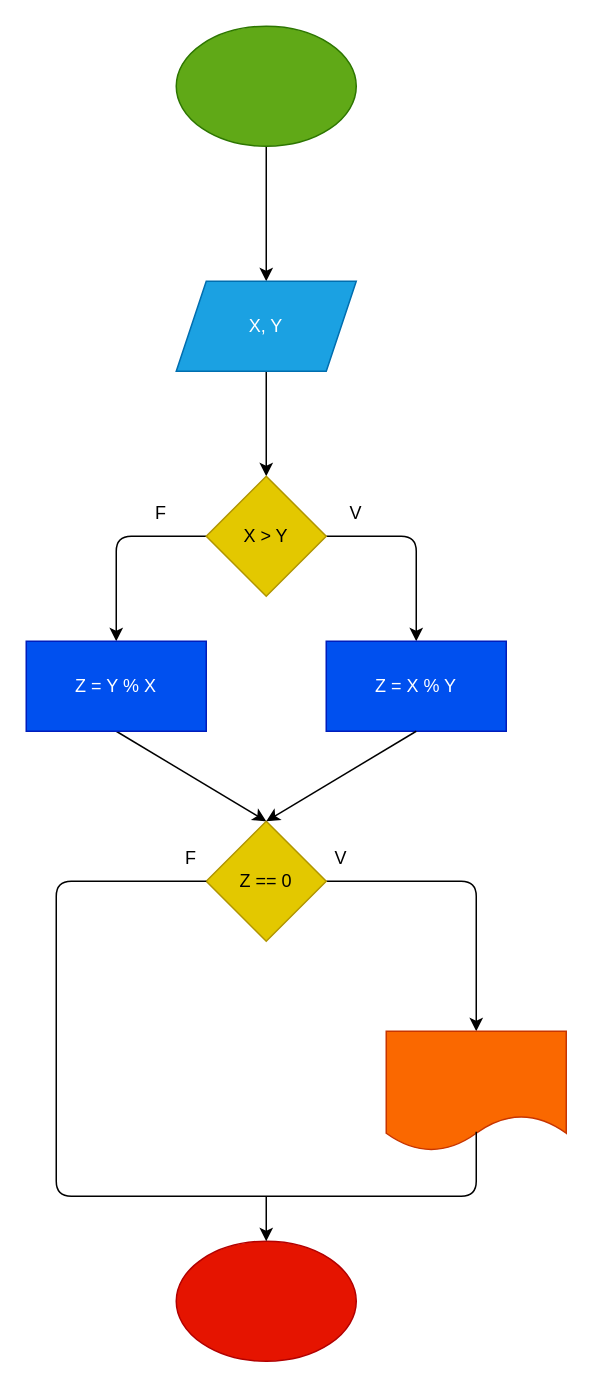
This 593x1388 diagram has some shape labels left out. The box of each missing label's shape, as (x1, y1, x2, y2) in pixels:
FIN: (175, 1240, 356, 1361)
INICIO: (175, 25, 356, 146)
X y Y son multiplos entre si: (385, 1030, 566, 1151)
